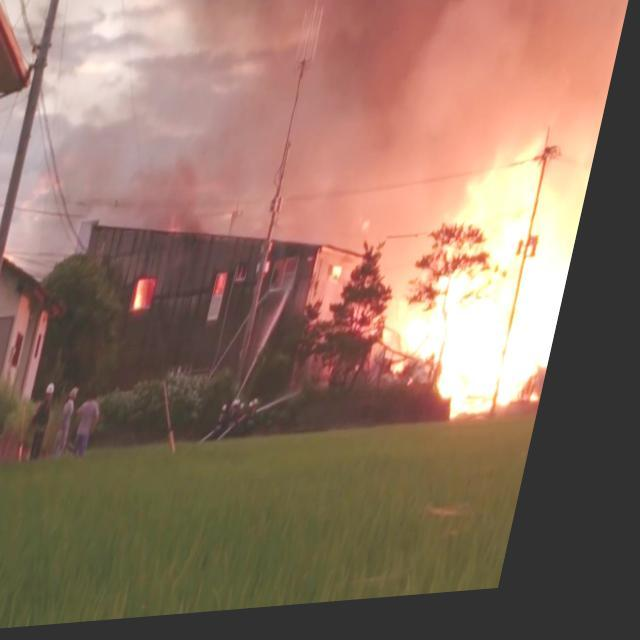Fire: (382, 158, 602, 428), (145, 279, 174, 315), (343, 268, 358, 287)
